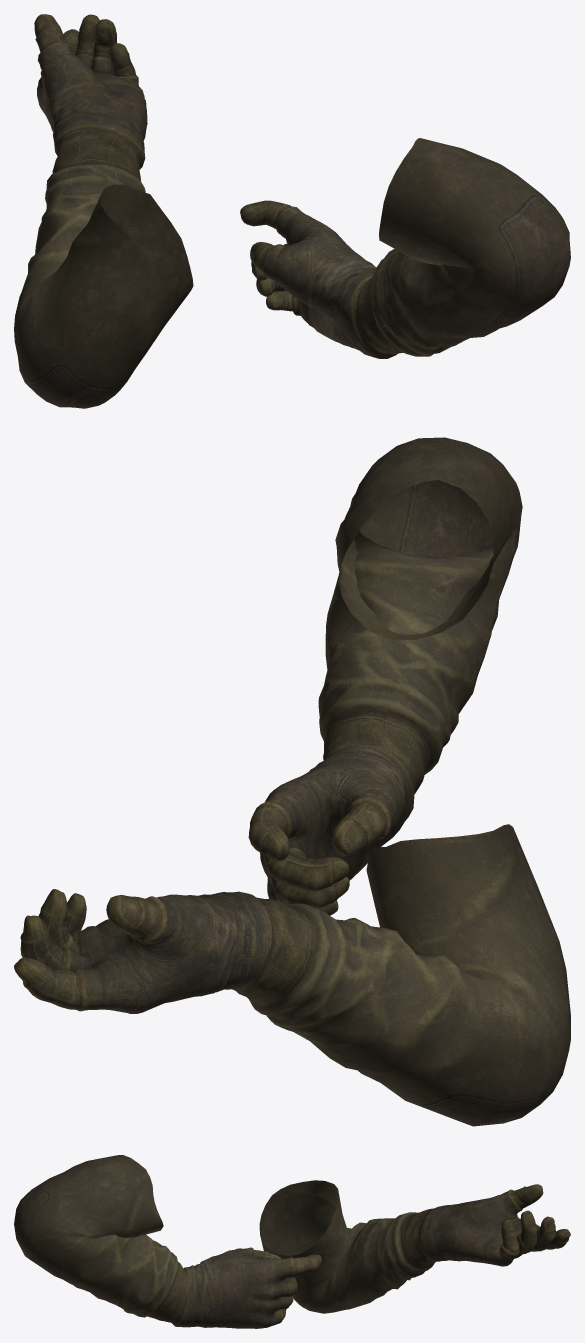
File: arms-horizontal.glb
3 renders of one model, top to bottom at view 1: azimuth 30°, elevation 25°; view 2: azimuth 150°, elevation 25°; view 3: azimuth 270°, elevation 25°, orthographic. The views are drawn at different scales.
Parts seen in each view (by area): view 1: LeftArmMesh, RightArmMesh; view 2: LeftArmMesh, RightArmMesh; view 3: RightArmMesh, LeftArmMesh.
Boxes of the visible parts, x1=… form: LeftArmMesh: x1=14, y1=14, x2=193, y2=408; RightArmMesh: x1=240, y1=138, x2=570, y2=358; LeftArmMesh: x1=14, y1=824, x2=570, y2=1126; RightArmMesh: x1=248, y1=437, x2=522, y2=915; RightArmMesh: x1=14, y1=1155, x2=321, y2=1328; LeftArmMesh: x1=259, y1=1180, x2=570, y2=1313.
Size of the model in its own units: 0.3109 by 0.2764 by 0.6419.
Materials: 1 (1 with a texture image).
